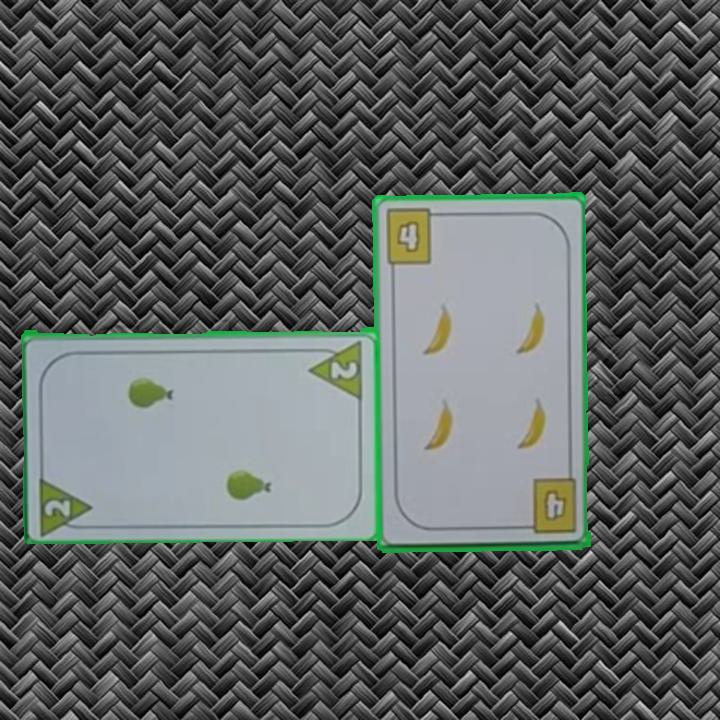2p: (36, 470, 97, 535), (327, 354, 360, 381)
4b: (381, 206, 445, 267), (516, 476, 580, 537)
